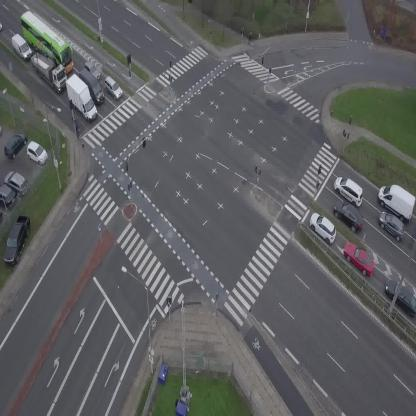bicycle: (74, 121, 81, 138), (246, 34, 255, 47)
bus: (11, 7, 83, 74)
car: (338, 237, 381, 281), (329, 197, 370, 235), (304, 208, 342, 246), (329, 173, 369, 208), (374, 208, 411, 243), (99, 74, 126, 102), (81, 58, 104, 80), (0, 23, 2, 30)
lorry: (20, 41, 75, 95), (60, 70, 100, 125), (76, 65, 107, 107), (7, 32, 36, 62)
